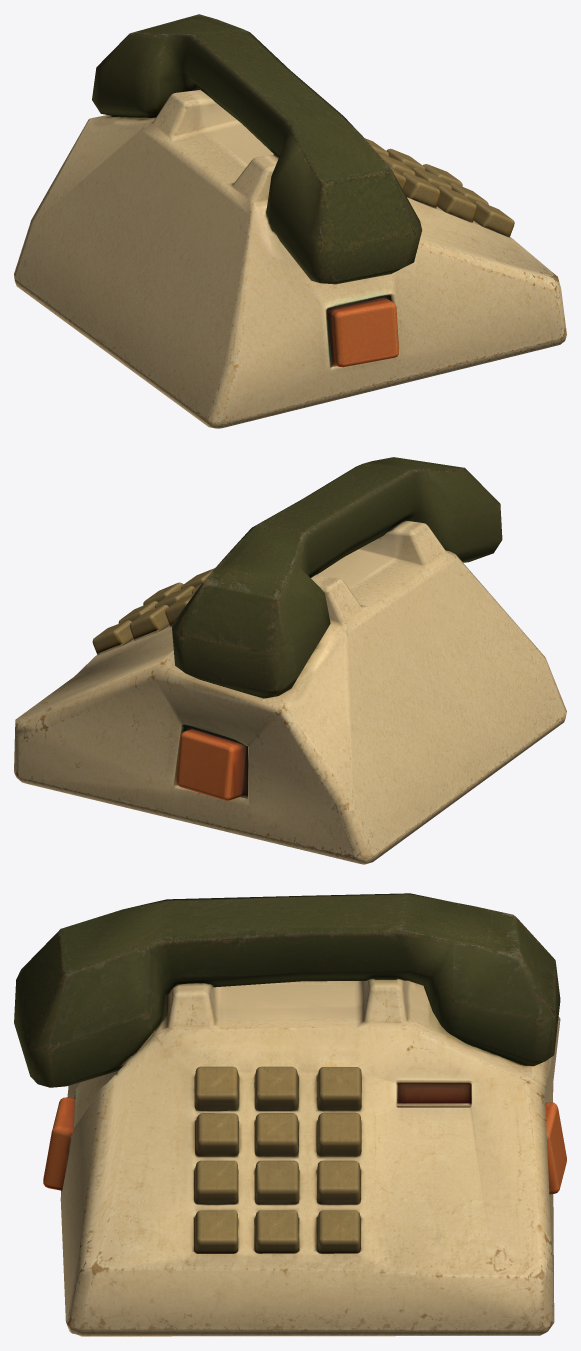
The model's file is P04_phone_source.fbx.
The picture shows the model from 3 angles, top to bottom: view 1: azimuth 30°, elevation 25°; view 2: azimuth 150°, elevation 25°; view 3: azimuth 270°, elevation 25°; orthographic projection. The views are drawn at different scales.
Visible parts, largest first — view 1: e92c40eb_d027_4c3a_8f38_55cd4f0024ea; view 2: e92c40eb_d027_4c3a_8f38_55cd4f0024ea; view 3: e92c40eb_d027_4c3a_8f38_55cd4f0024ea.
Part boxes in pixels (x1=…): e92c40eb_d027_4c3a_8f38_55cd4f0024ea: x1=14, y1=14, x2=566, y2=428; e92c40eb_d027_4c3a_8f38_55cd4f0024ea: x1=14, y1=457, x2=566, y2=864; e92c40eb_d027_4c3a_8f38_55cd4f0024ea: x1=14, y1=893, x2=566, y2=1336.
Bounding box in the file's own units: 0.8901 × 0.6265 × 0.9995.
Materials: 1 (1 with a texture image).
